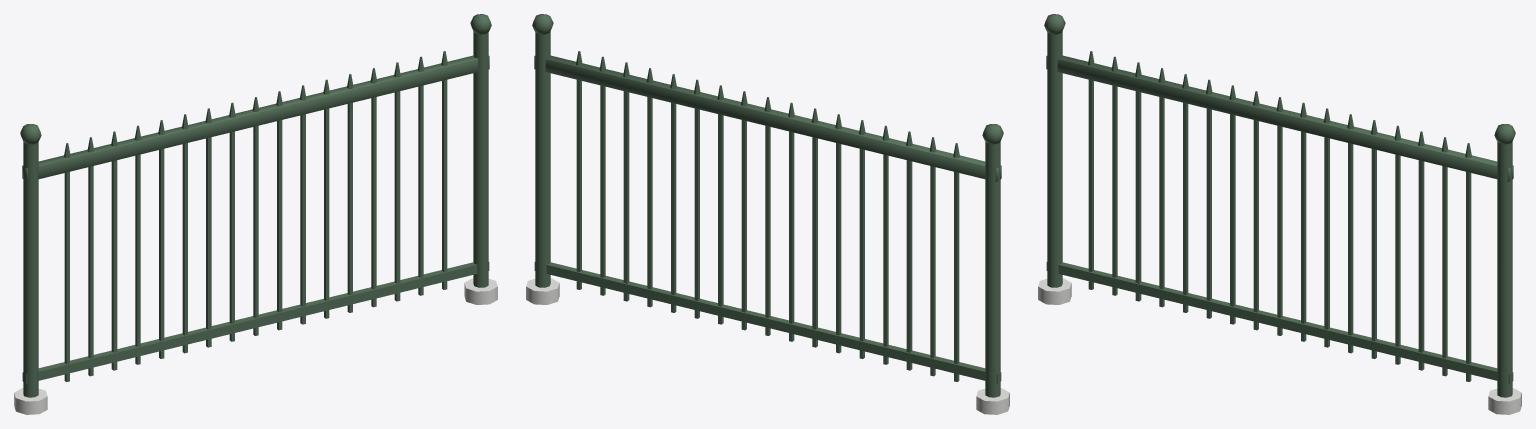
File: Fence_Iron.fbx
3 renders of one model, left to right at view 1: azimuth 30°, elevation 25°; view 2: azimuth 150°, elevation 25°; view 3: azimuth 330°, elevation 25°, orthographic.
Parts seen in each view (by area): view 1: LOD0; view 2: LOD0; view 3: LOD0.
Part boxes in pixels (box(x1,y1,x2,y2)): LOD0: box(14, 14, 497, 414); LOD0: box(526, 14, 1009, 414); LOD0: box(1038, 14, 1521, 414).
Size of what is drawn, in the model's own units: 224 by 126 by 14.
